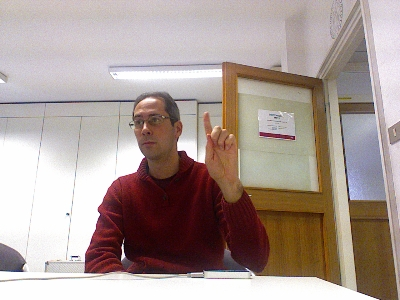食指: (202, 110, 238, 183)
